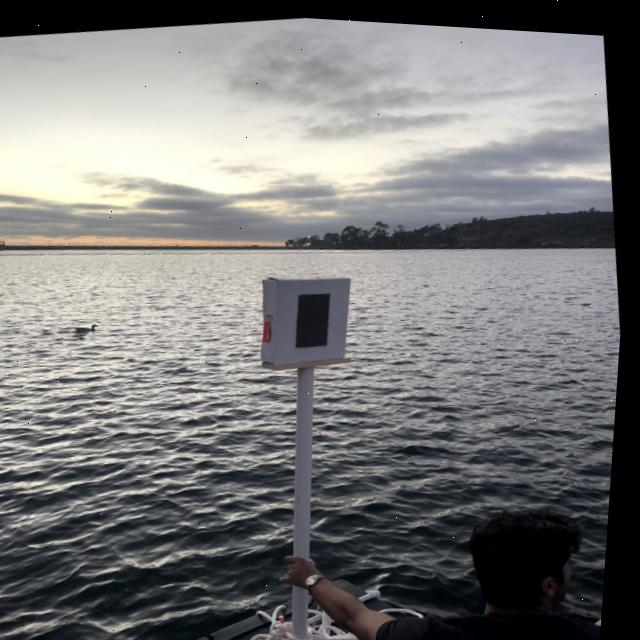led: (274, 269, 357, 366)
